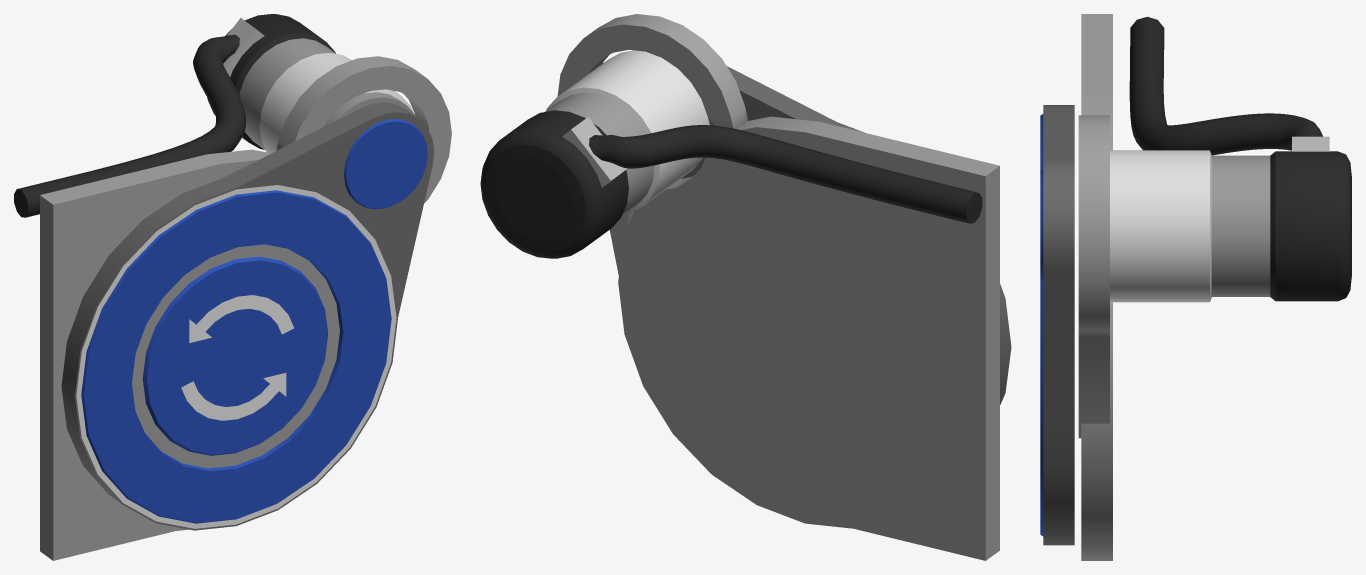
The model's file is Steering_FL.glb.
3 views of the same model, side by side, from view 1: azimuth 30°, elevation 25°; view 2: azimuth 150°, elevation 25°; view 3: azimuth 270°, elevation 25° (orthographic). The views are drawn at different scales.
Visible parts, largest first — view 1: Steering_FL; view 2: Steering_FL; view 3: Steering_FL.
Part boxes in pixels (bbox=[...]): Steering_FL: bbox=[14, 14, 451, 560]; Steering_FL: bbox=[480, 14, 1011, 560]; Steering_FL: bbox=[1040, 14, 1351, 560].
Size of the model in its own units: 0.1742 by 0.175 by 0.0988.
